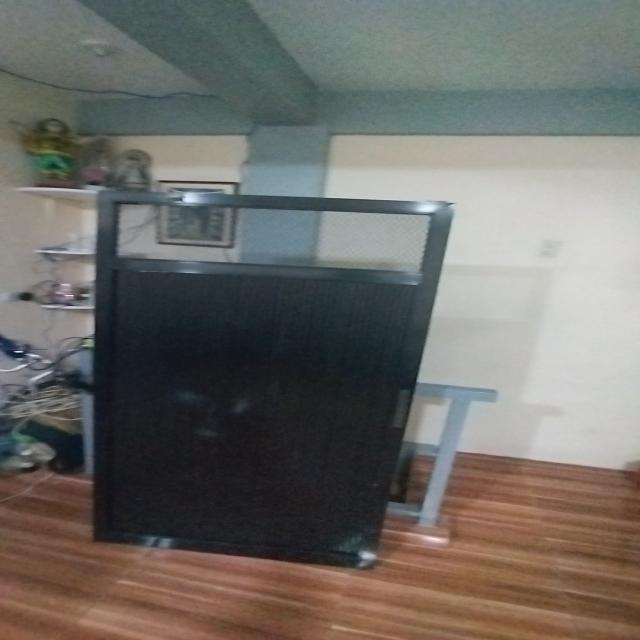door: (83, 186, 432, 572)
